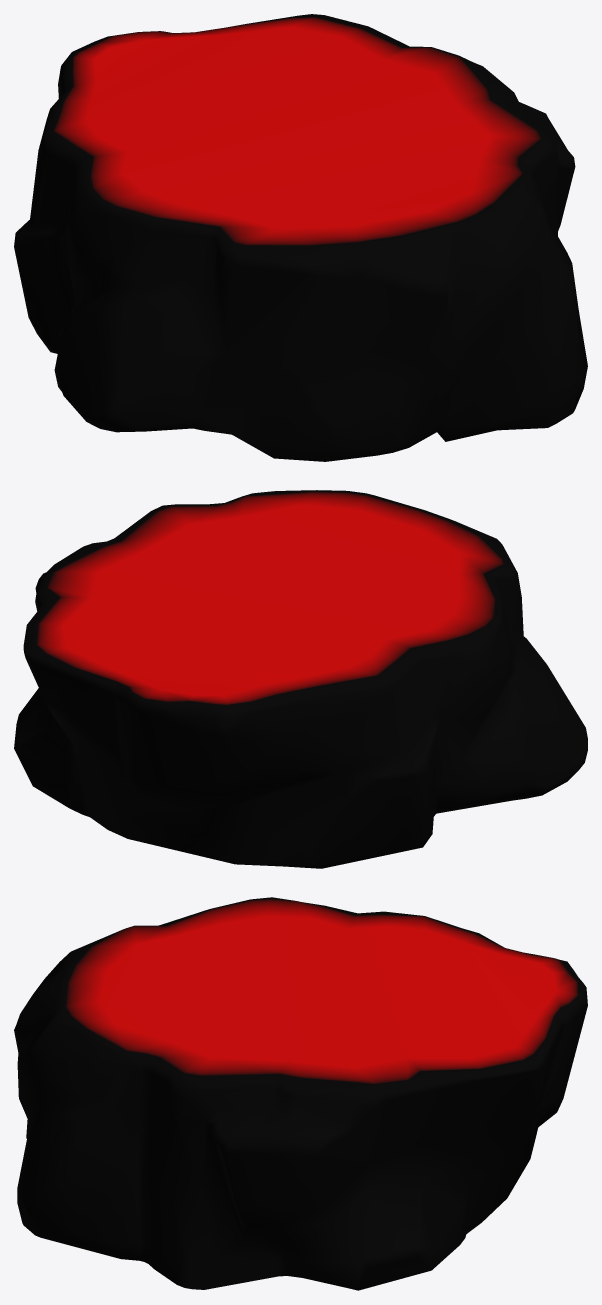
File: Shitou_hill_03.fbx
3 views of the same model, one above another, from view 1: azimuth 30°, elevation 25°; view 2: azimuth 150°, elevation 25°; view 3: azimuth 270°, elevation 25° (orthographic). The views are drawn at different scales.
Parts seen in each view (by area): view 1: Shitou_hill_03_LOD0; view 2: Shitou_hill_03_LOD0; view 3: Shitou_hill_03_LOD0.
Boxes of the visible parts, box(x1,y1,x2,y2) form: Shitou_hill_03_LOD0: box(14, 14, 587, 461); Shitou_hill_03_LOD0: box(14, 490, 587, 868); Shitou_hill_03_LOD0: box(14, 897, 587, 1290).
Bounding box in the file's own units: 379 × 152 × 394.
